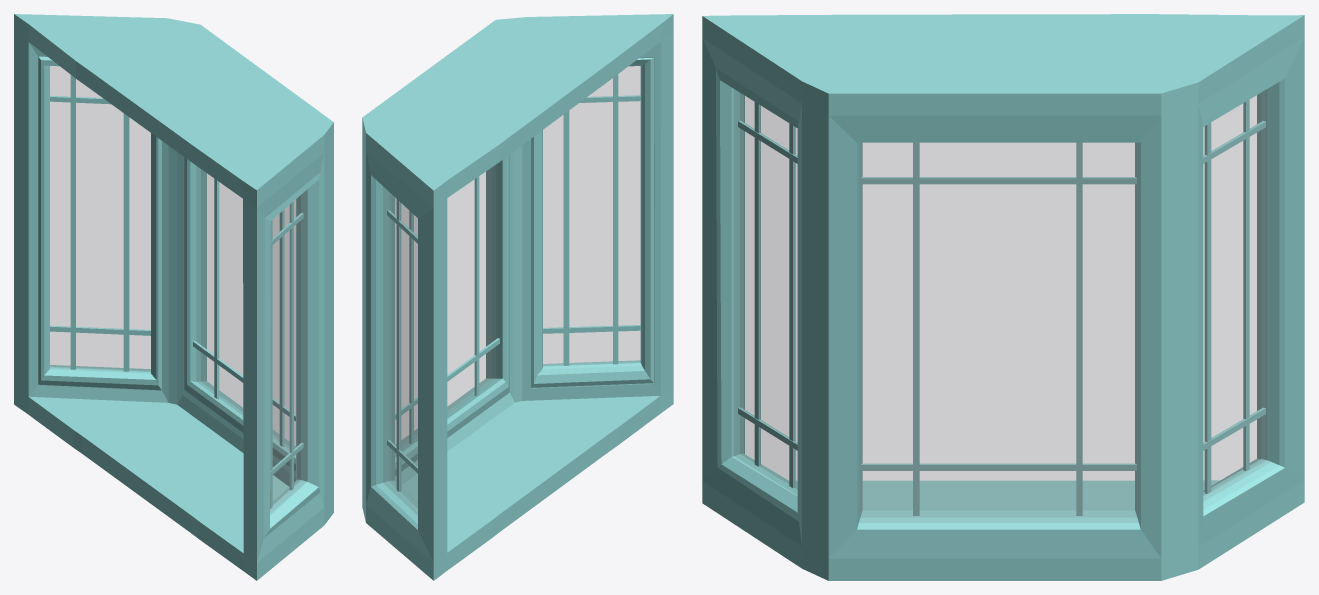
File: BayWindow.fbx
The picture shows the model from 3 angles, left to right: view 1: azimuth 30°, elevation 25°; view 2: azimuth 150°, elevation 25°; view 3: azimuth 270°, elevation 25°; orthographic projection. The views are drawn at different scales.
Visible parts, largest first — view 1: window, polySurface2, polySurface3, polySurface1, polySurface13, polySurface12, polySurface11, polySurface14, polySurface15, polySurface10, polySurface7, polySurface8; view 2: window, polySurface1, polySurface3, polySurface2, polySurface11, polySurface10, polySurface13, polySurface14, polySurface15, polySurface5, polySurface8; view 3: window, polySurface3, polySurface2, polySurface1, polySurface13, polySurface14, polySurface15, polySurface12, polySurface11, polySurface10, polySurface8, polySurface9.
Boxes of the visible parts, left/top/right/bottom form: window: left=14, top=14, right=333, bottom=580; polySurface2: left=50, top=66, right=150, bottom=371; polySurface3: left=197, top=167, right=295, bottom=447; polySurface1: left=270, top=190, right=306, bottom=512; polySurface13: left=123, top=113, right=129, bottom=371; polySurface12: left=70, top=75, right=75, bottom=369; polySurface11: left=289, top=201, right=293, bottom=490; polySurface14: left=279, top=209, right=284, bottom=446; polySurface15: left=214, top=178, right=219, bottom=399; polySurface10: left=270, top=220, right=272, bottom=509; polySurface7: left=50, top=325, right=150, bottom=335; polySurface8: left=193, top=341, right=295, bottom=421; window: left=362, top=14, right=673, bottom=580; polySurface1: left=543, top=66, right=640, bottom=365; polySurface3: left=395, top=165, right=495, bottom=444; polySurface2: left=383, top=187, right=417, bottom=514; polySurface11: left=563, top=110, right=569, bottom=365; polySurface10: left=613, top=74, right=618, bottom=364; polySurface13: left=396, top=199, right=401, bottom=491; polySurface14: left=474, top=176, right=479, bottom=395; polySurface15: left=409, top=211, right=413, bottom=443; polySurface5: left=543, top=325, right=640, bottom=333; polySurface8: left=395, top=338, right=499, bottom=419; window: left=702, top=14, right=1304, bottom=580; polySurface3: left=859, top=143, right=1138, bottom=522; polySurface2: left=1203, top=87, right=1270, bottom=500; polySurface1: left=734, top=89, right=797, bottom=494; polySurface13: left=1204, top=122, right=1211, bottom=493; polySurface14: left=913, top=142, right=919, bottom=515; polySurface15: left=1076, top=142, right=1082, bottom=515; polySurface12: left=1243, top=99, right=1249, bottom=470; polySurface11: left=789, top=123, right=795, bottom=488; polySurface10: left=754, top=102, right=760, bottom=466; polySurface8: left=861, top=463, right=1136, bottom=470; polySurface9: left=861, top=177, right=1136, bottom=184.
Bounding box in the file's own units: 22.56 × 64.39 × 72.11.
